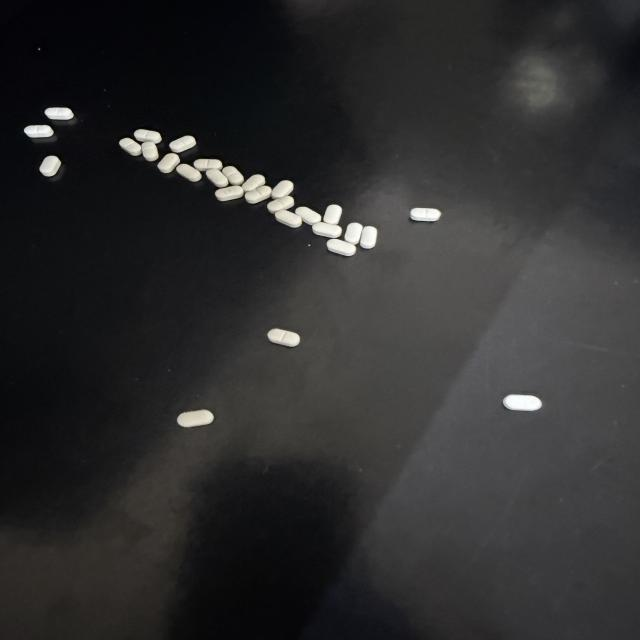pill: (503, 395, 542, 411), (178, 410, 213, 427), (268, 329, 300, 346), (327, 239, 356, 256), (312, 222, 341, 238), (275, 210, 302, 227), (205, 169, 229, 188), (245, 186, 271, 203), (268, 196, 294, 213), (170, 136, 196, 153), (296, 207, 321, 224), (176, 164, 201, 181), (158, 153, 179, 173), (216, 186, 244, 201), (40, 156, 61, 176), (222, 166, 244, 185), (119, 138, 142, 156), (410, 208, 441, 221), (272, 180, 293, 199), (360, 226, 377, 249), (134, 129, 161, 143), (344, 223, 362, 244), (242, 175, 265, 191), (45, 107, 73, 120), (194, 159, 222, 172), (323, 205, 342, 224), (24, 125, 53, 137), (142, 142, 158, 161)
